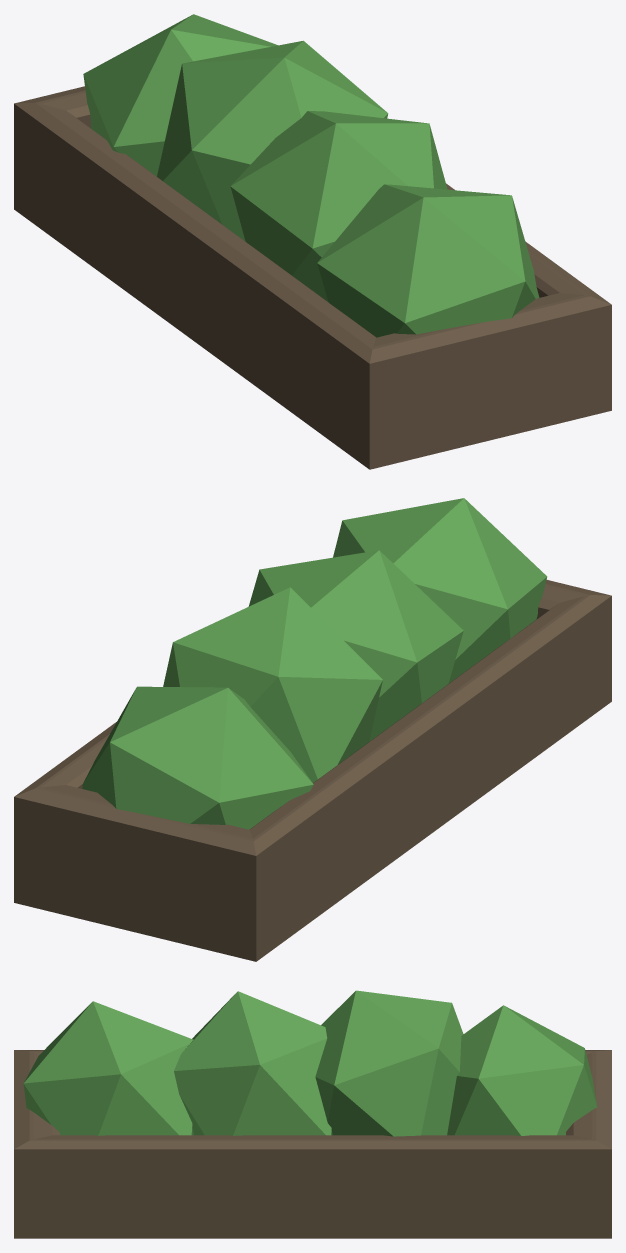
File: bush2_city_oldenburg.fbx
3 views of the same model, one above another, from view 1: azimuth 30°, elevation 25°; view 2: azimuth 150°, elevation 25°; view 3: azimuth 270°, elevation 25° (orthographic). The views are drawn at different scales.
Parts seen in each view (by area): view 1: Cube.029; view 2: Cube.029; view 3: Cube.029.
Part boxes in pixels (x1=…): Cube.029: x1=14, y1=14, x2=611, y2=469; Cube.029: x1=14, y1=498, x2=611, y2=961; Cube.029: x1=14, y1=990, x2=611, y2=1238.
Size of the model in its own units: 10.16 by 9.4 by 25.84.
